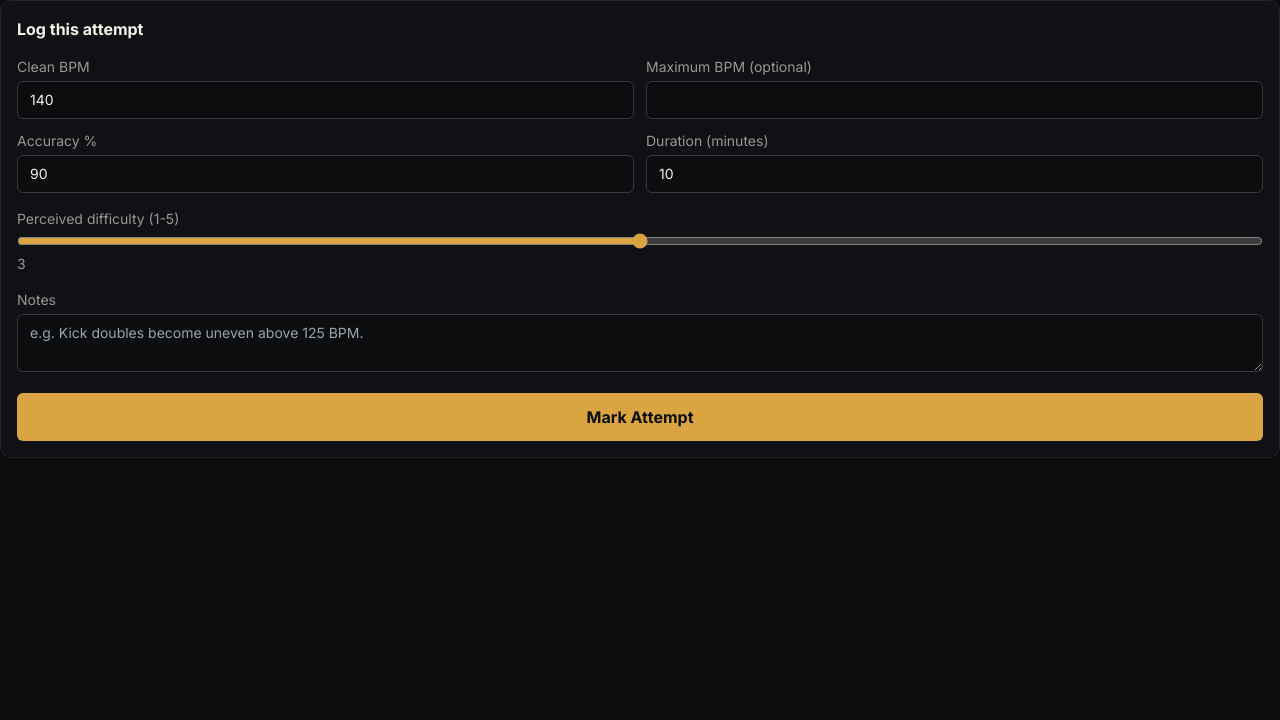
Test case: PerformanceLogForm › rejects a maximum BPM lower than the clean BPM (section 25 validation)
Type "100" into the number field labelled "Maximum BPM (optional)" at (954, 100), box [646,81,1263,119]
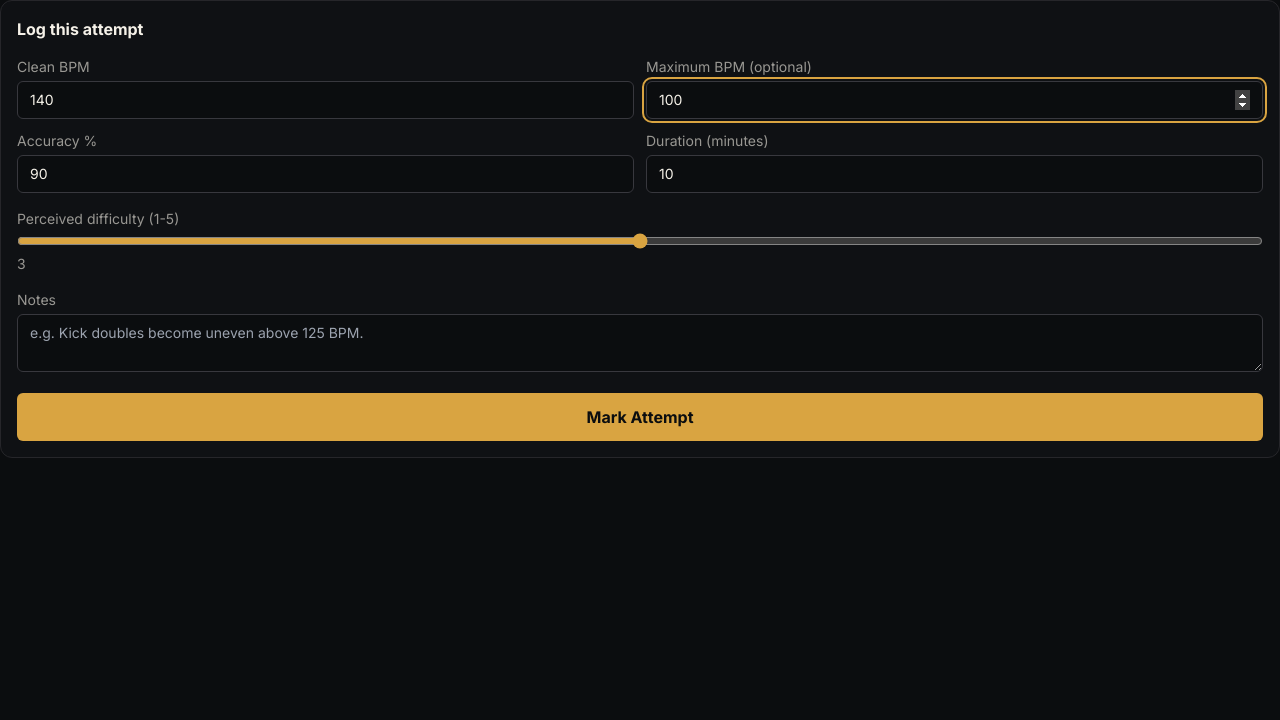
Click the button "Mark Attempt" at (640, 417), box [17,393,1263,441]
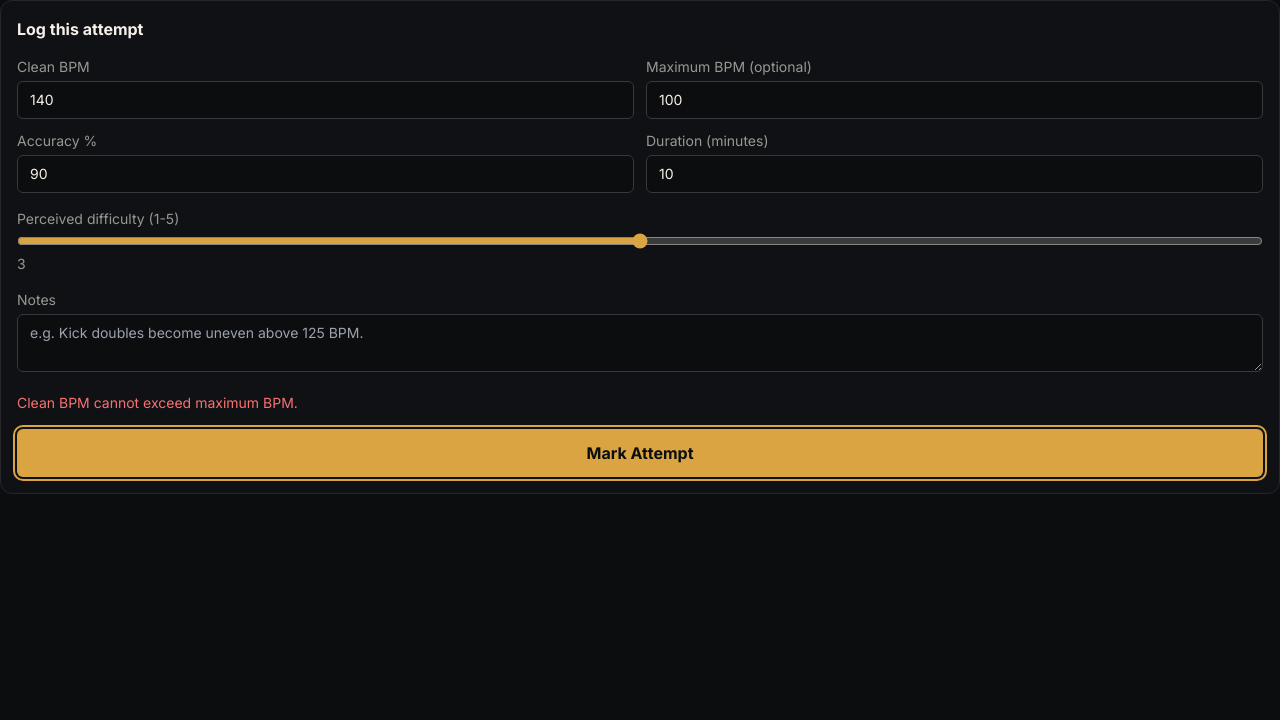
Expected: the message shows "cannot exceed maximum", [17,394,298,411]
